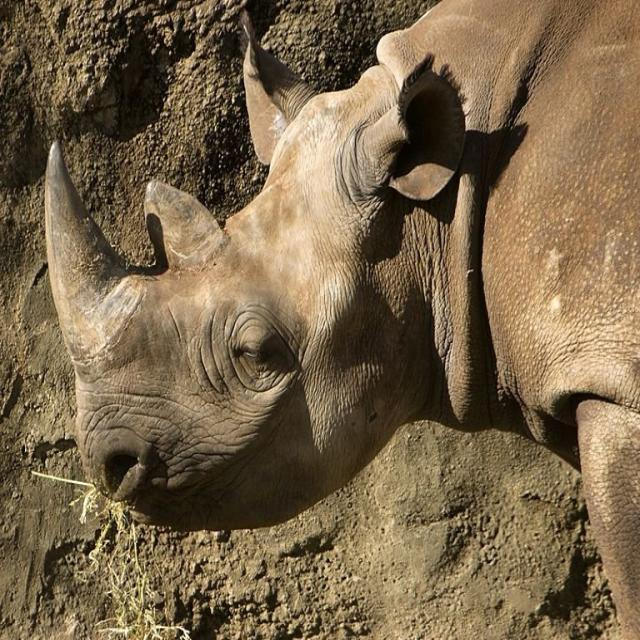rhinoceros: (45, 0, 639, 639)
